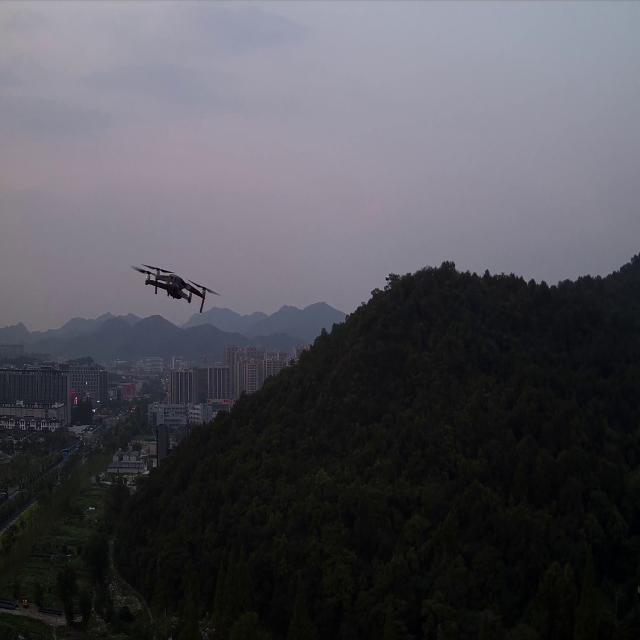UAV: (129, 259, 224, 314)
